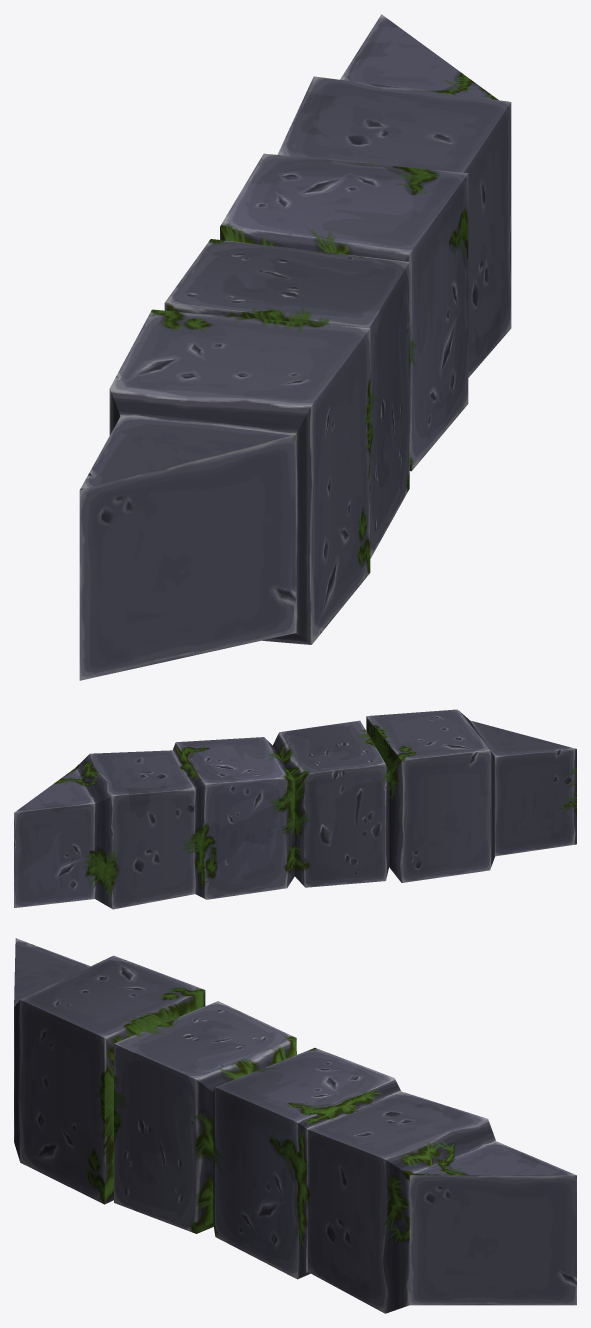
Rendered from MOD_WallCover_01_M_angle_2.fbx.
3 views of the same model, one above another, from view 1: azimuth 30°, elevation 25°; view 2: azimuth 150°, elevation 25°; view 3: azimuth 270°, elevation 25° (orthographic). The views are drawn at different scales.
Visible parts, largest first — view 1: MOD_WallCover_01_M_angle_2; view 2: MOD_WallCover_01_M_angle_2; view 3: MOD_WallCover_01_M_angle_2.
Boxes of the visible parts, box(x1,y1,x2,y2) form: MOD_WallCover_01_M_angle_2: box(79, 14, 511, 680); MOD_WallCover_01_M_angle_2: box(14, 709, 576, 909); MOD_WallCover_01_M_angle_2: box(14, 938, 576, 1313).
Size of the model in its own units: 235 by 76.97 by 236.
